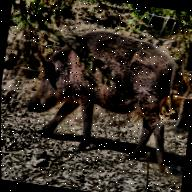boar: (20, 9, 183, 172)
